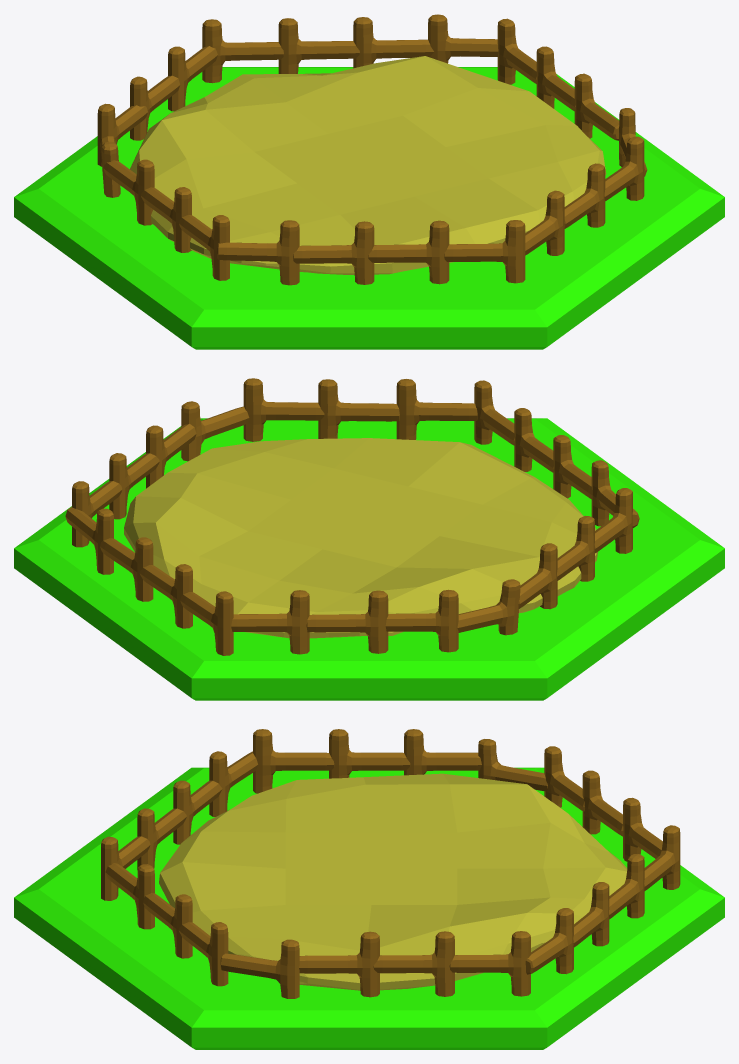
The model's file is grain.fbx.
The picture shows the model from 3 angles, top to bottom: view 1: azimuth 30°, elevation 25°; view 2: azimuth 150°, elevation 25°; view 3: azimuth 270°, elevation 25°; orthographic projection.
Visible parts, largest first — view 1: Tile; view 2: Tile; view 3: Tile.
Part boxes in pixels (<box>): Tile: <box>14,14,724,349</box>; Tile: <box>14,378,724,700</box>; Tile: <box>14,729,724,1049</box>.
Bounding box in the file's own units: 482 × 81.27 × 557.
